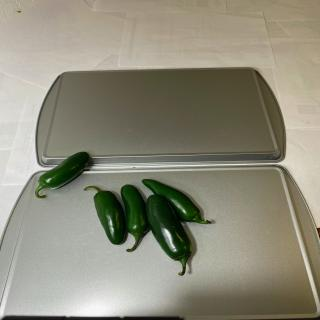Chilli: (144, 194, 192, 276), (141, 178, 211, 225), (34, 151, 90, 199), (83, 186, 126, 245), (120, 184, 149, 252)
